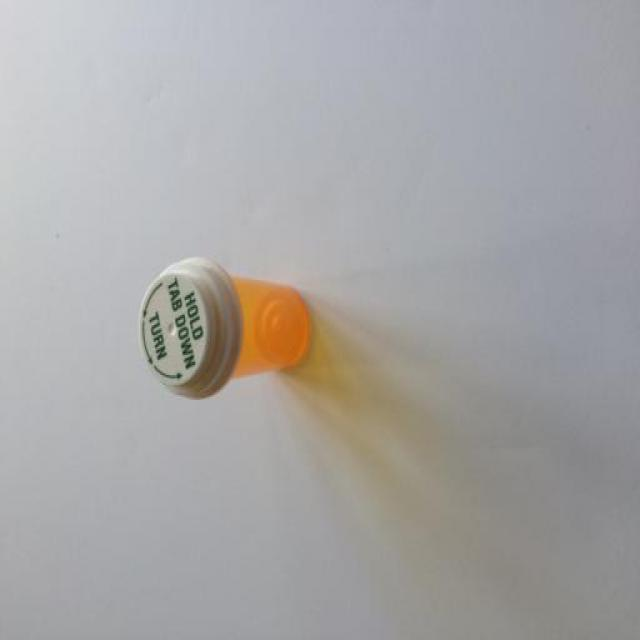plastic_bottle: (103, 242, 383, 448)
